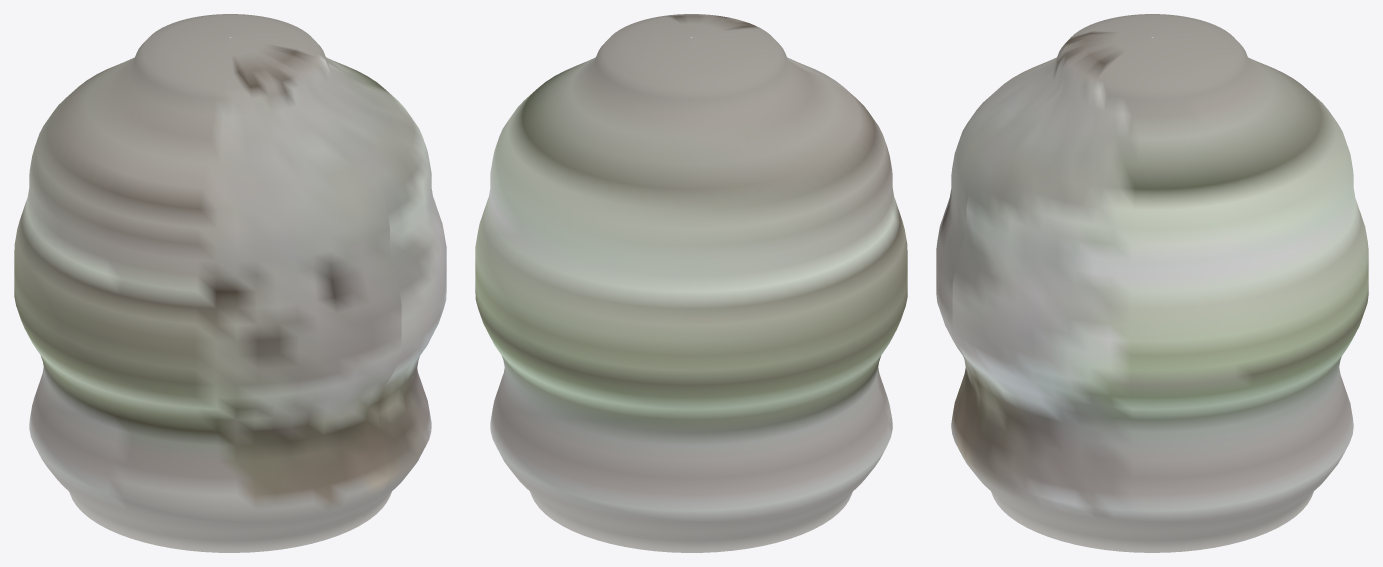
The model's file is critter-0.glb.
3 renders of one model, left to right at view 1: azimuth 30°, elevation 25°; view 2: azimuth 150°, elevation 25°; view 3: azimuth 270°, elevation 25°, orthographic.
Visible parts, largest first — view 1: critter-0; view 2: critter-0; view 3: critter-0.
Part boxes in pixels (x1=…): critter-0: x1=14, y1=14, x2=446, y2=552; critter-0: x1=475, y1=14, x2=907, y2=552; critter-0: x1=936, y1=14, x2=1368, y2=552.
Size of the model in its own units: 0.5868 by 0.6688 by 0.5868.
